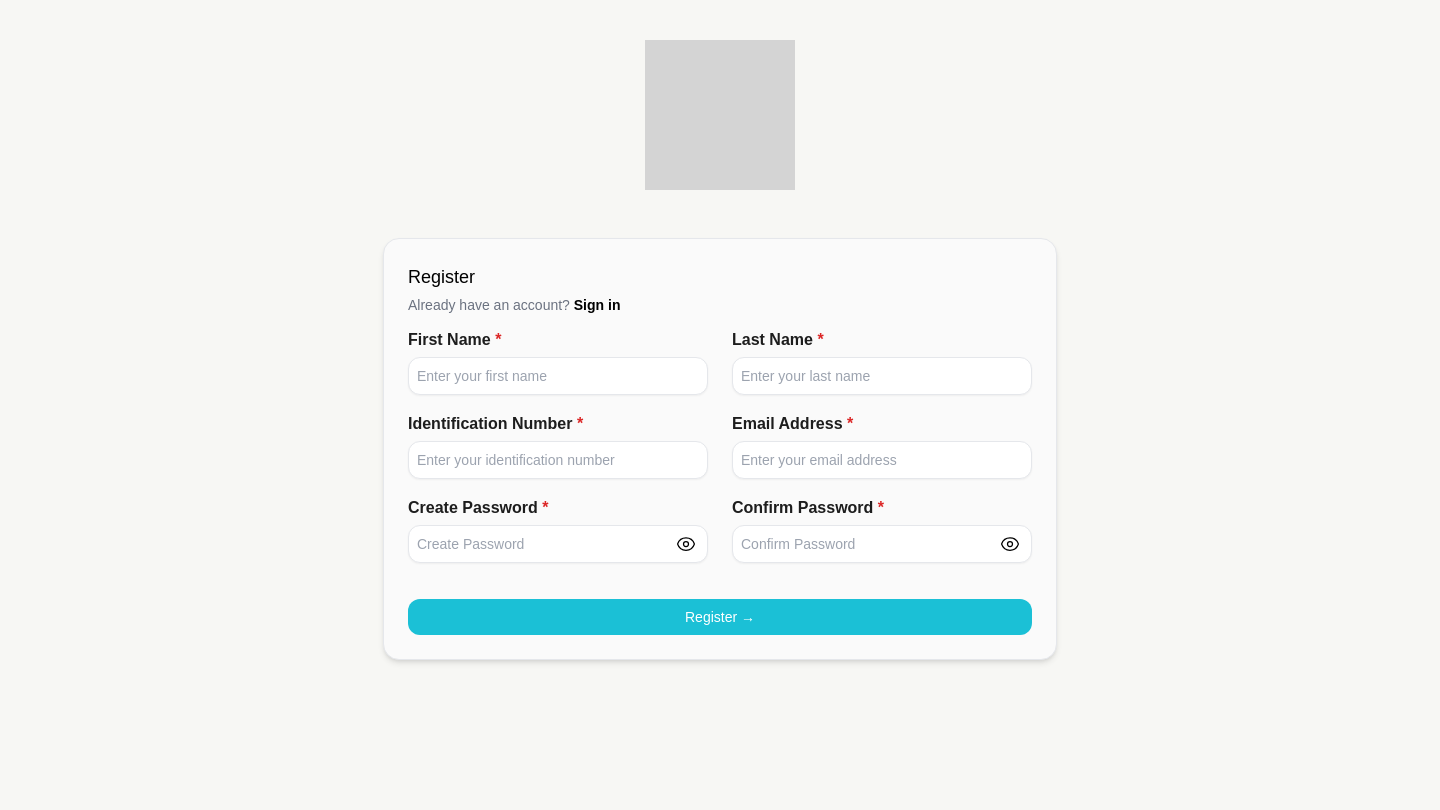
it: AdminRegistration Component › handles successful registration and login flow
Note: Fill and submit the form
Type "John" into the field labelled "First Name *" at (558, 376), box [408,357,708,395]
Type "Doe" into the field labelled "Last Name *" at (882, 376), box [732,357,1032,395]
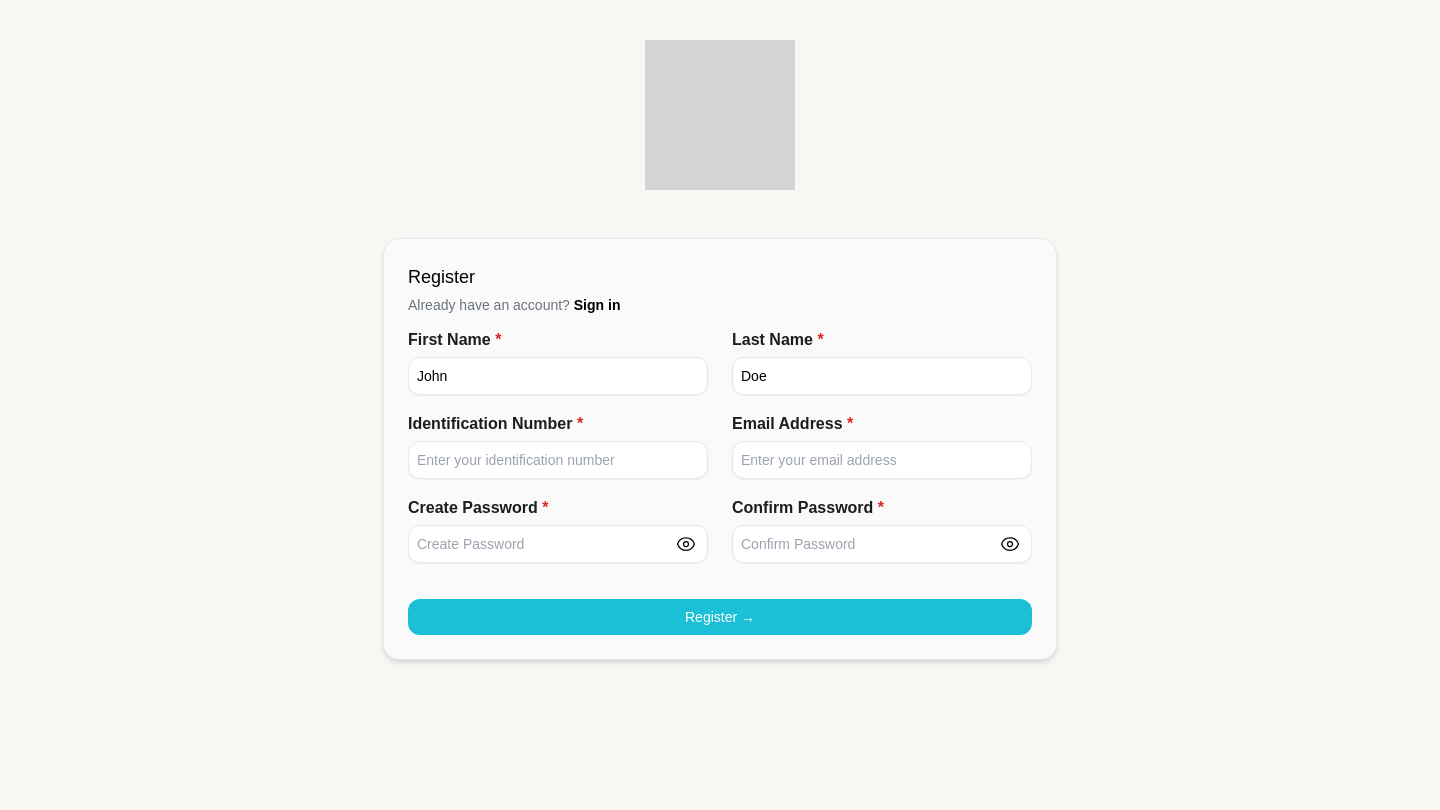
Type "12345" into the field labelled "Identification Number *" at (558, 460), box [408,441,708,479]
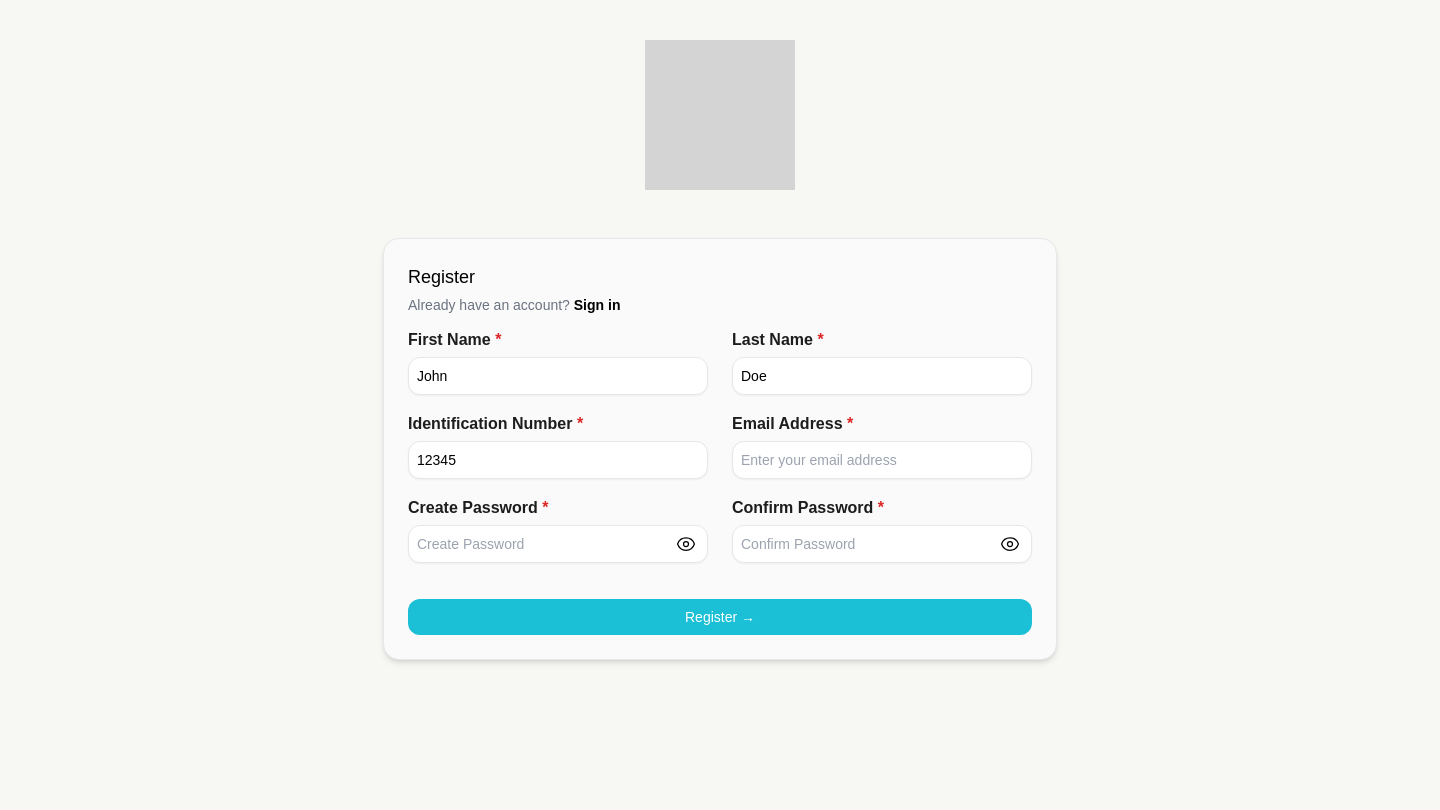
Type "john.doe@example.com" into the field labelled "Email Address *" at (882, 460), box [732,441,1032,479]
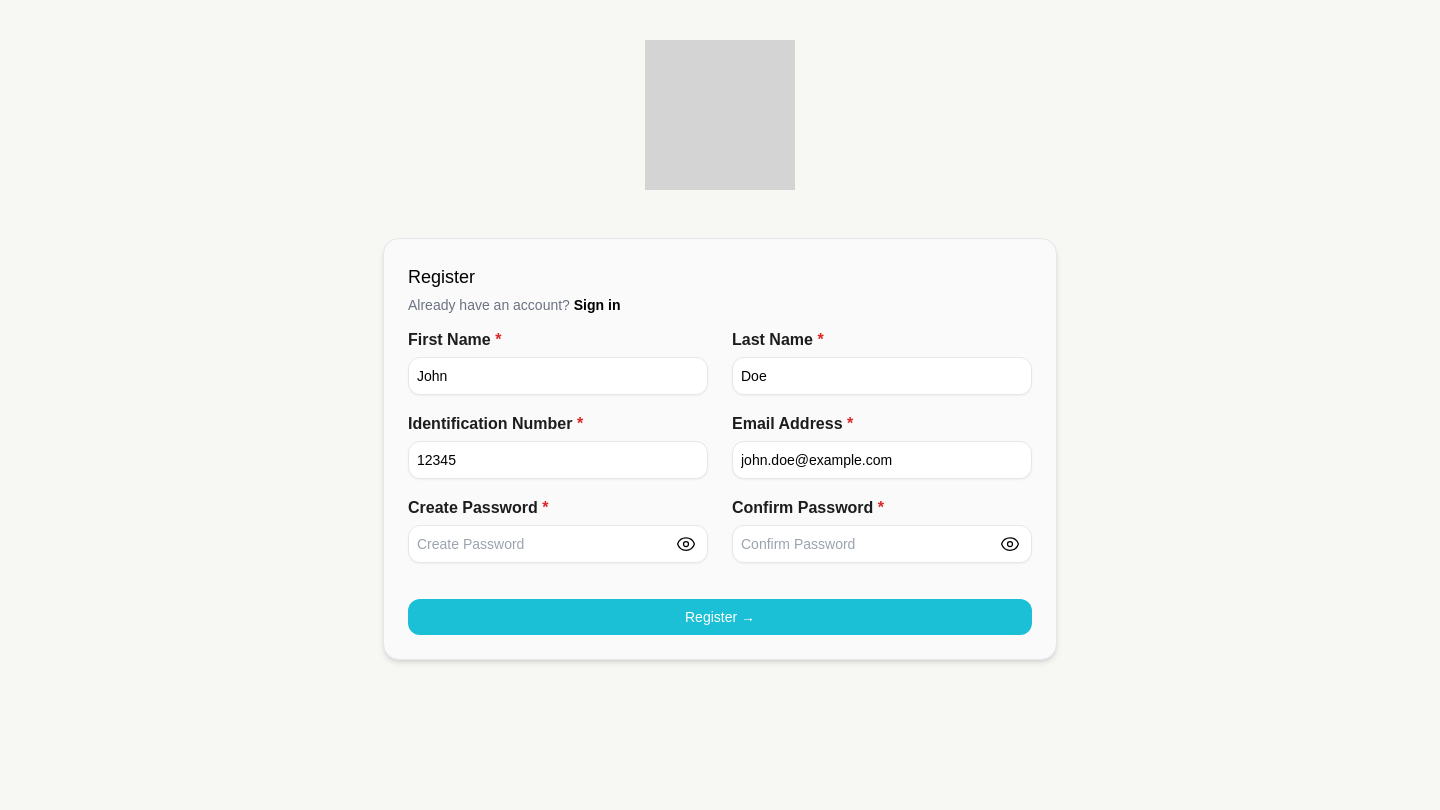
Type "StrongPass123!" into the password field labelled "Create Password *" at (558, 544), box [408,525,708,563]
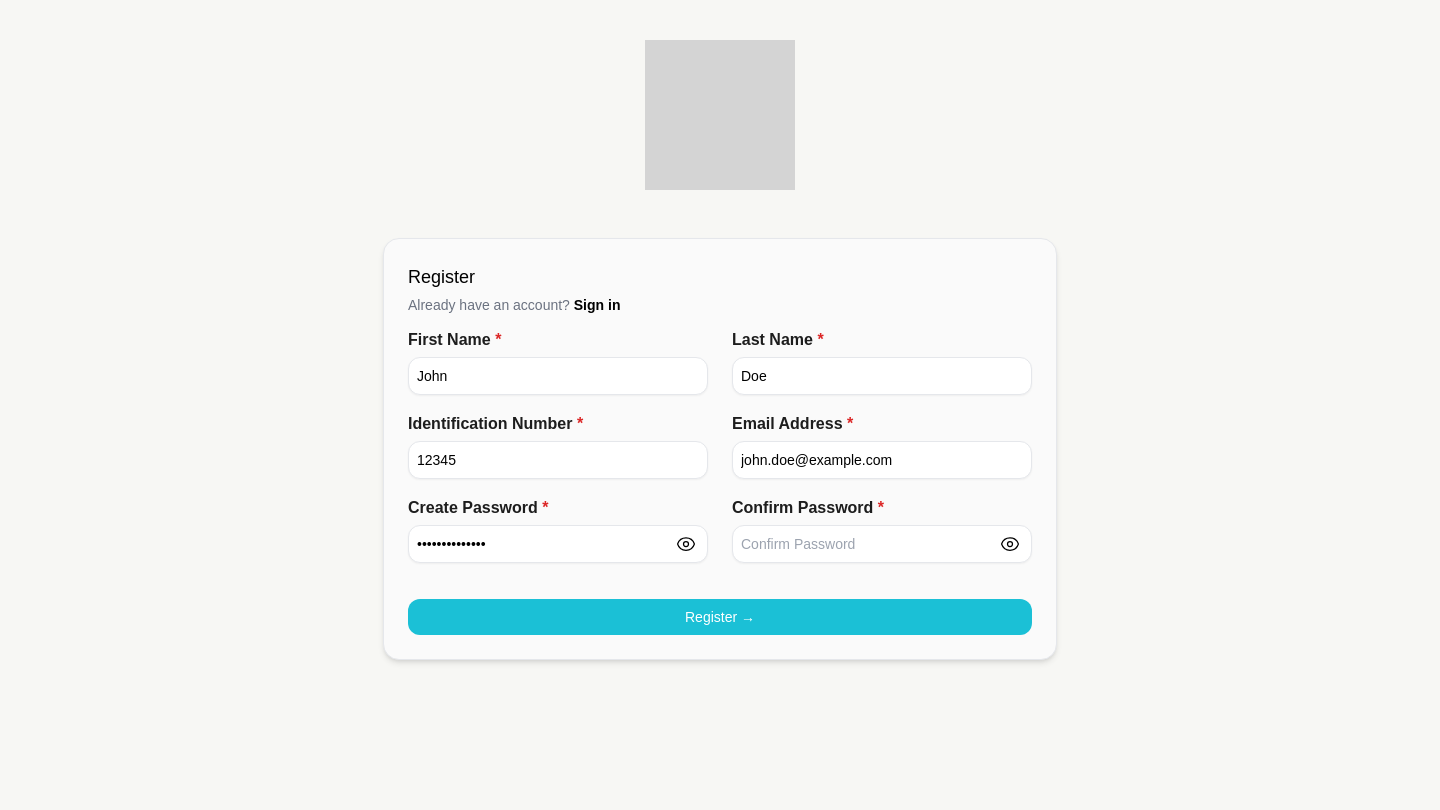
Type "StrongPass123!" into the password field labelled "Confirm Password *" at (882, 544), box [732,525,1032,563]
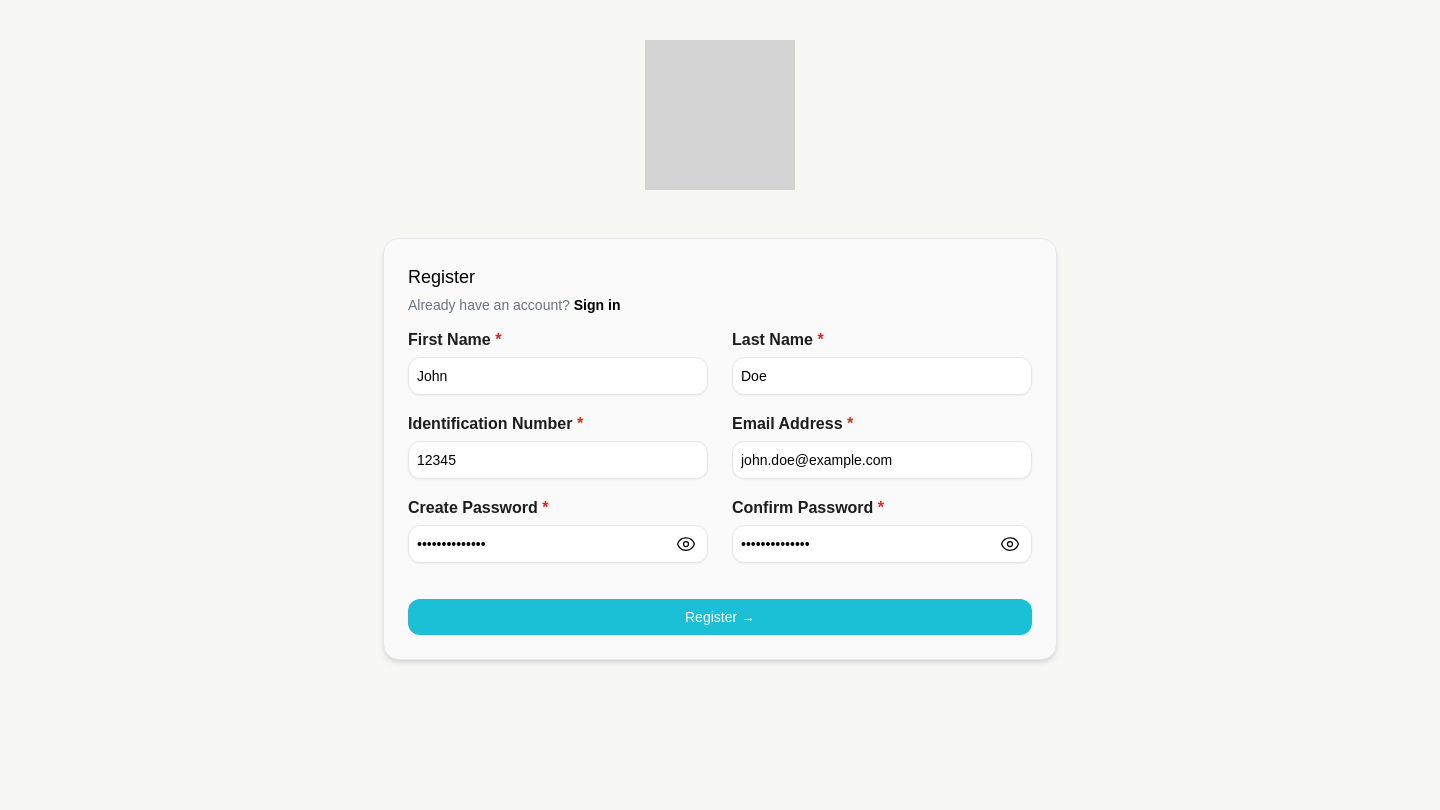
Click the button "Register →" at (720, 617), box [408,599,1032,635]
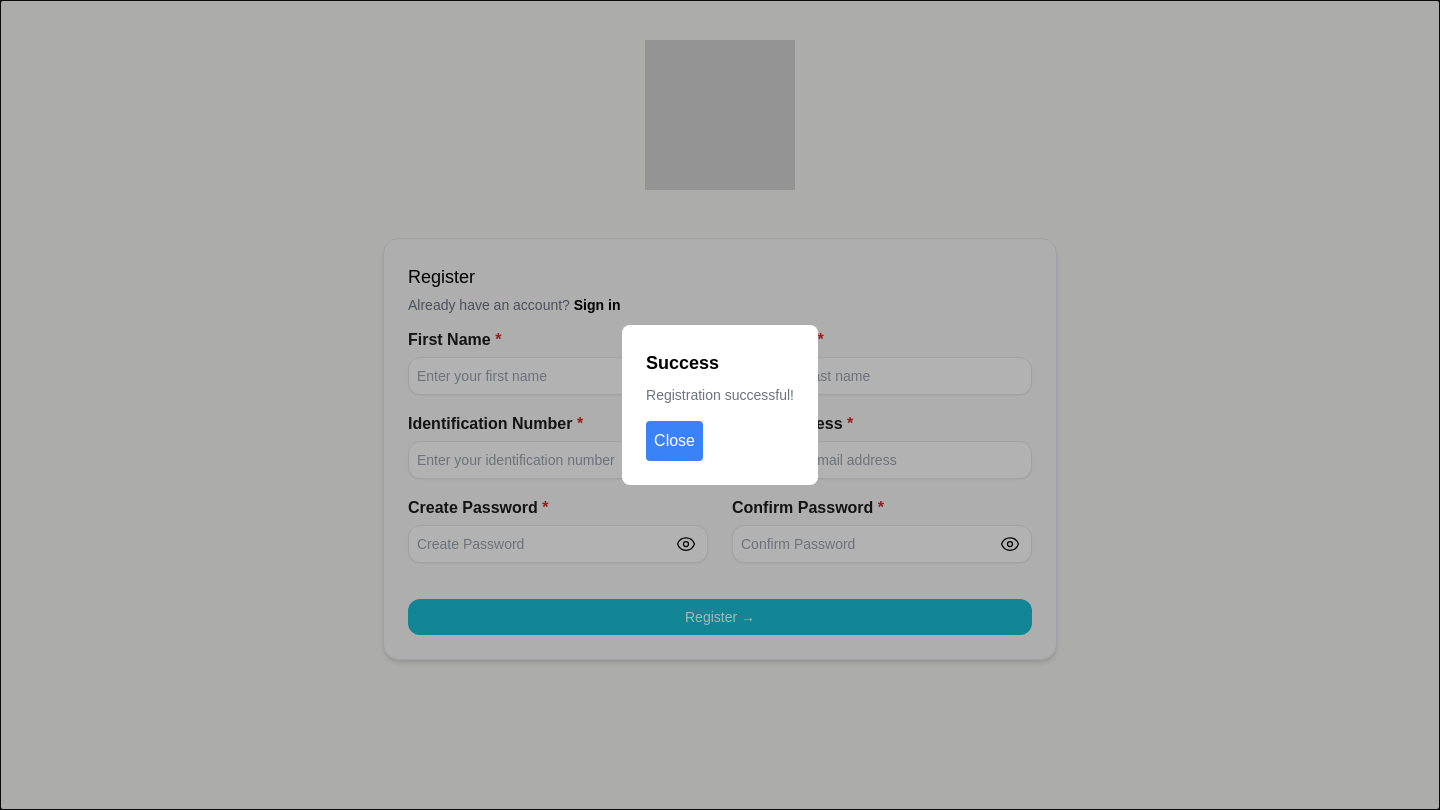
Expected: the text "Registration successful!" is shown, [646,385,794,405]
